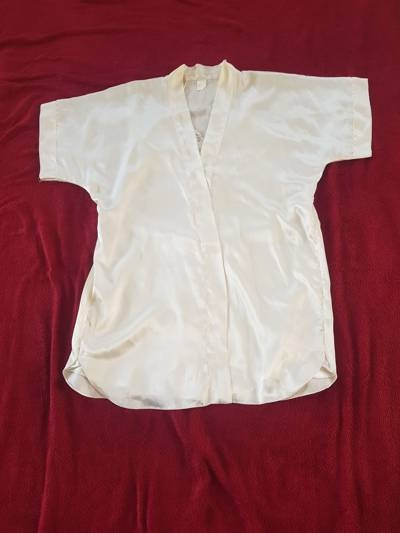Blouse: (30, 45, 375, 429)
